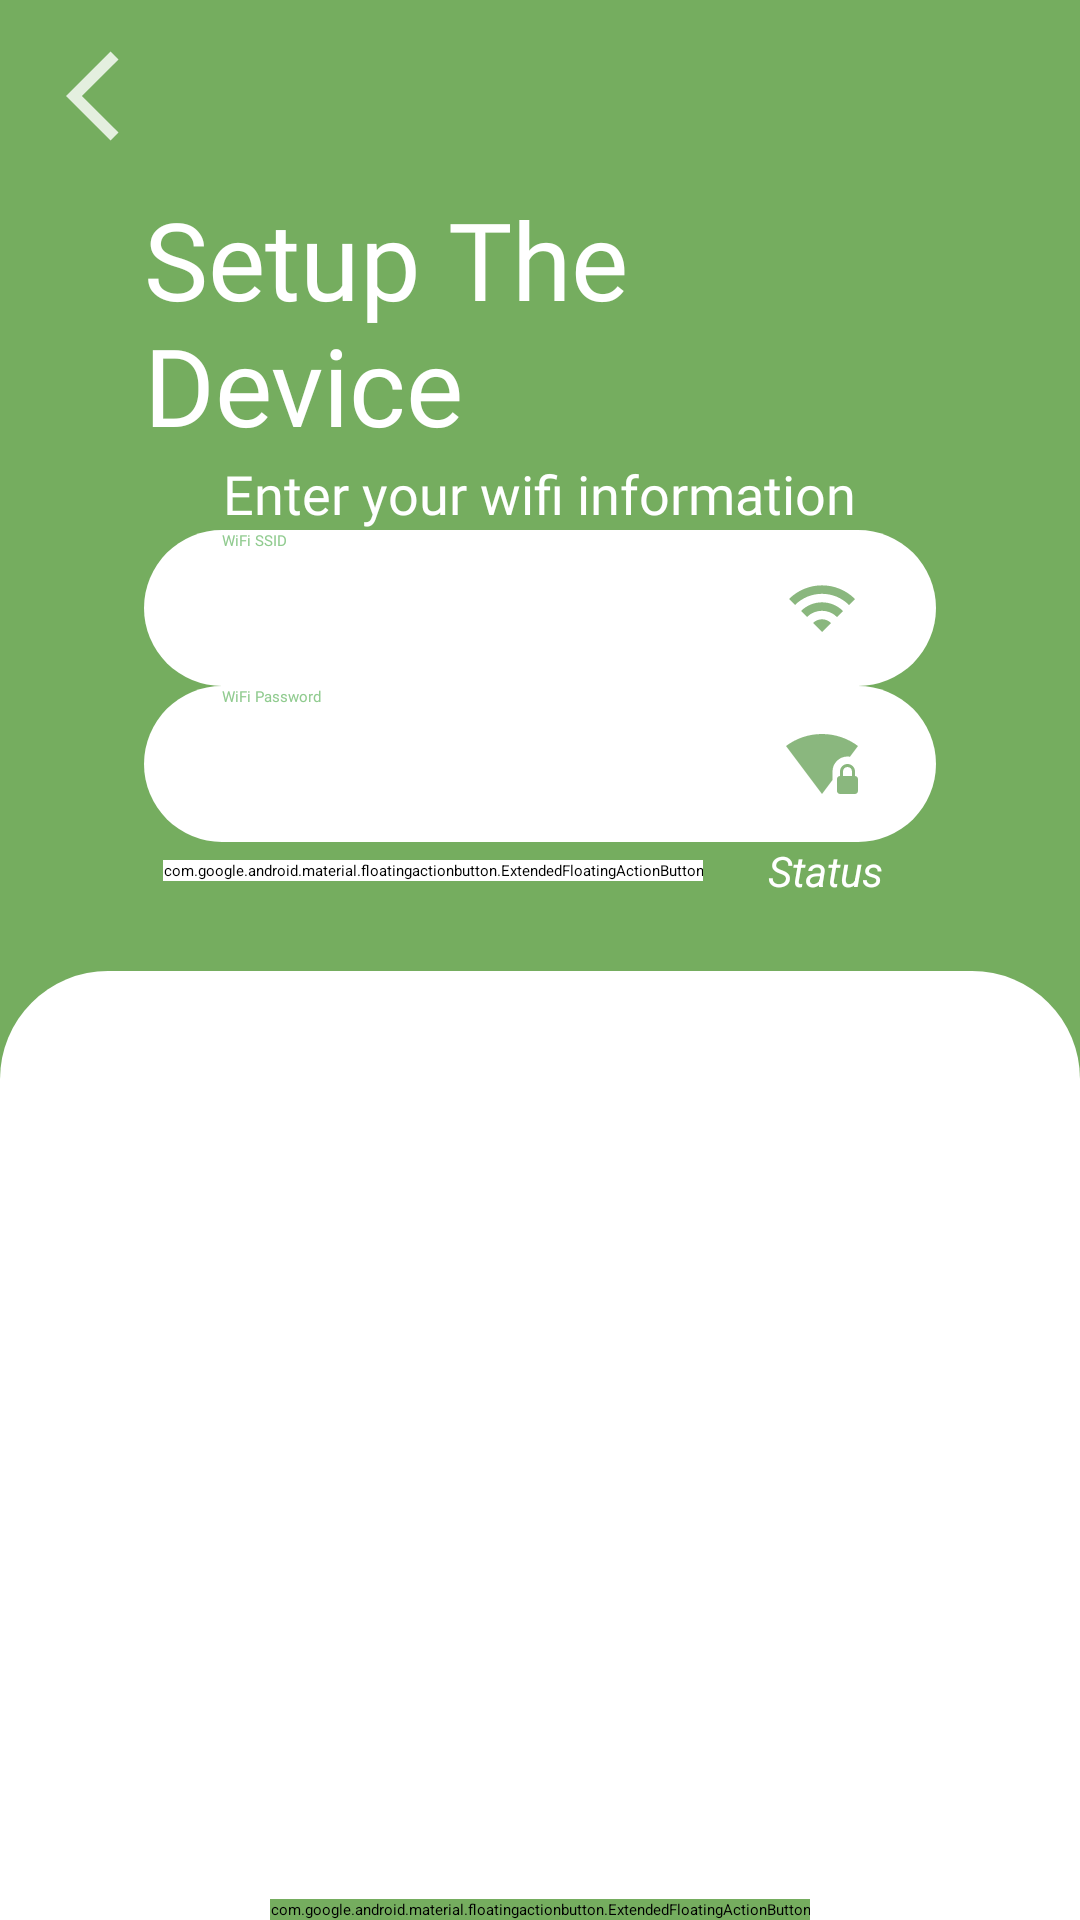

Named icons in this screenshot (1080×1920) and their centers, point (x, y):
back: point (92, 96)
